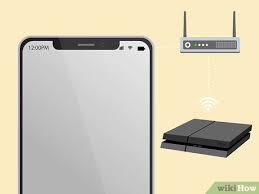Smartphone: (15, 41, 151, 194)
